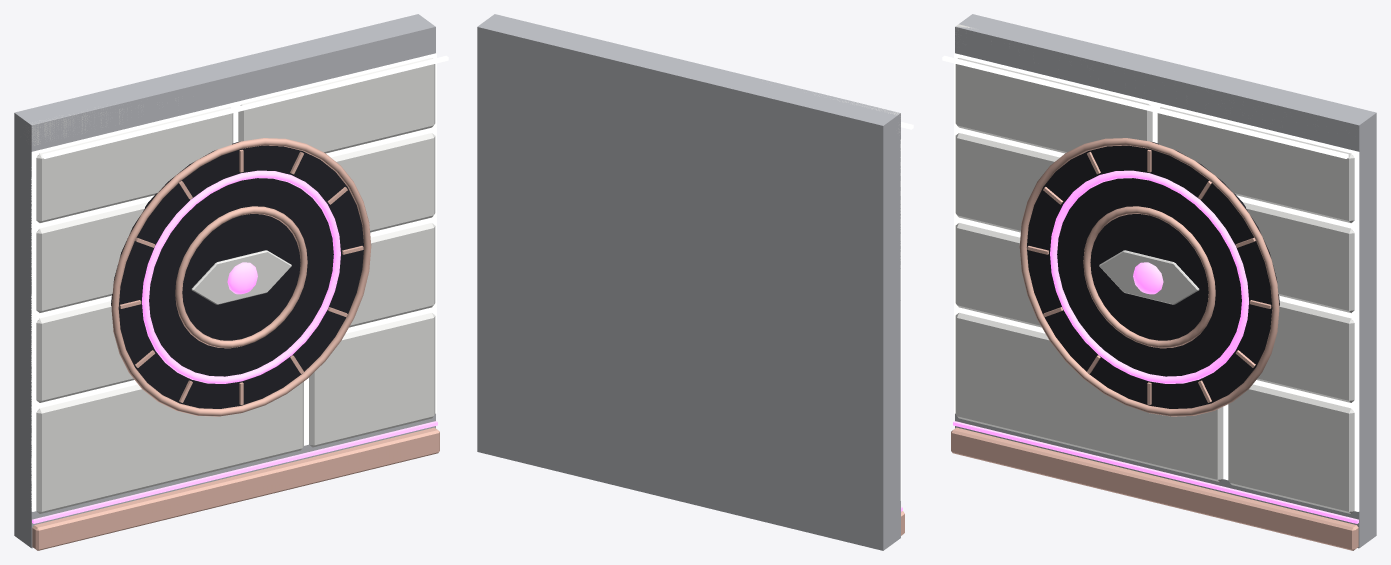
File: wall_emblem.glb
The picture shows the model from 3 angles, left to right: view 1: azimuth 30°, elevation 25°; view 2: azimuth 150°, elevation 25°; view 3: azimuth 330°, elevation 25°; orthographic projection.
Visible parts, largest first — view 1: wall_emblem; view 2: wall_emblem; view 3: wall_emblem.
Part boxes in pixels (box(x1,y1,x2,y2)): wall_emblem: box(14, 14, 448, 550); wall_emblem: box(477, 14, 913, 550); wall_emblem: box(942, 14, 1376, 550).
Bounding box in the file's own units: 4 × 4 × 0.525.
